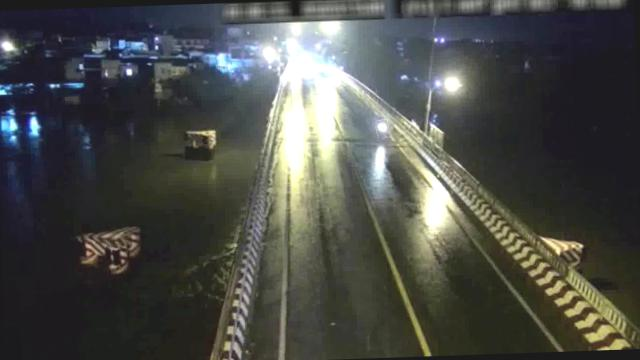Bike: (376, 120, 391, 138)
